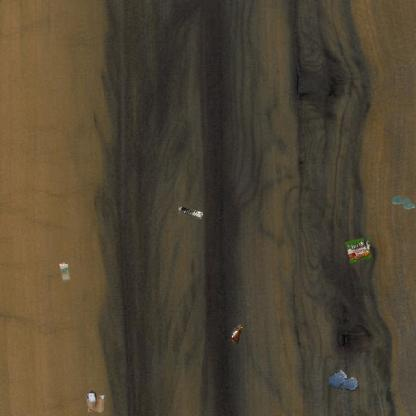dirty: (343, 235, 373, 265), (83, 388, 106, 415), (178, 205, 203, 219), (228, 322, 243, 344), (58, 261, 72, 284)
liquid: (327, 368, 358, 392), (391, 194, 415, 210)
